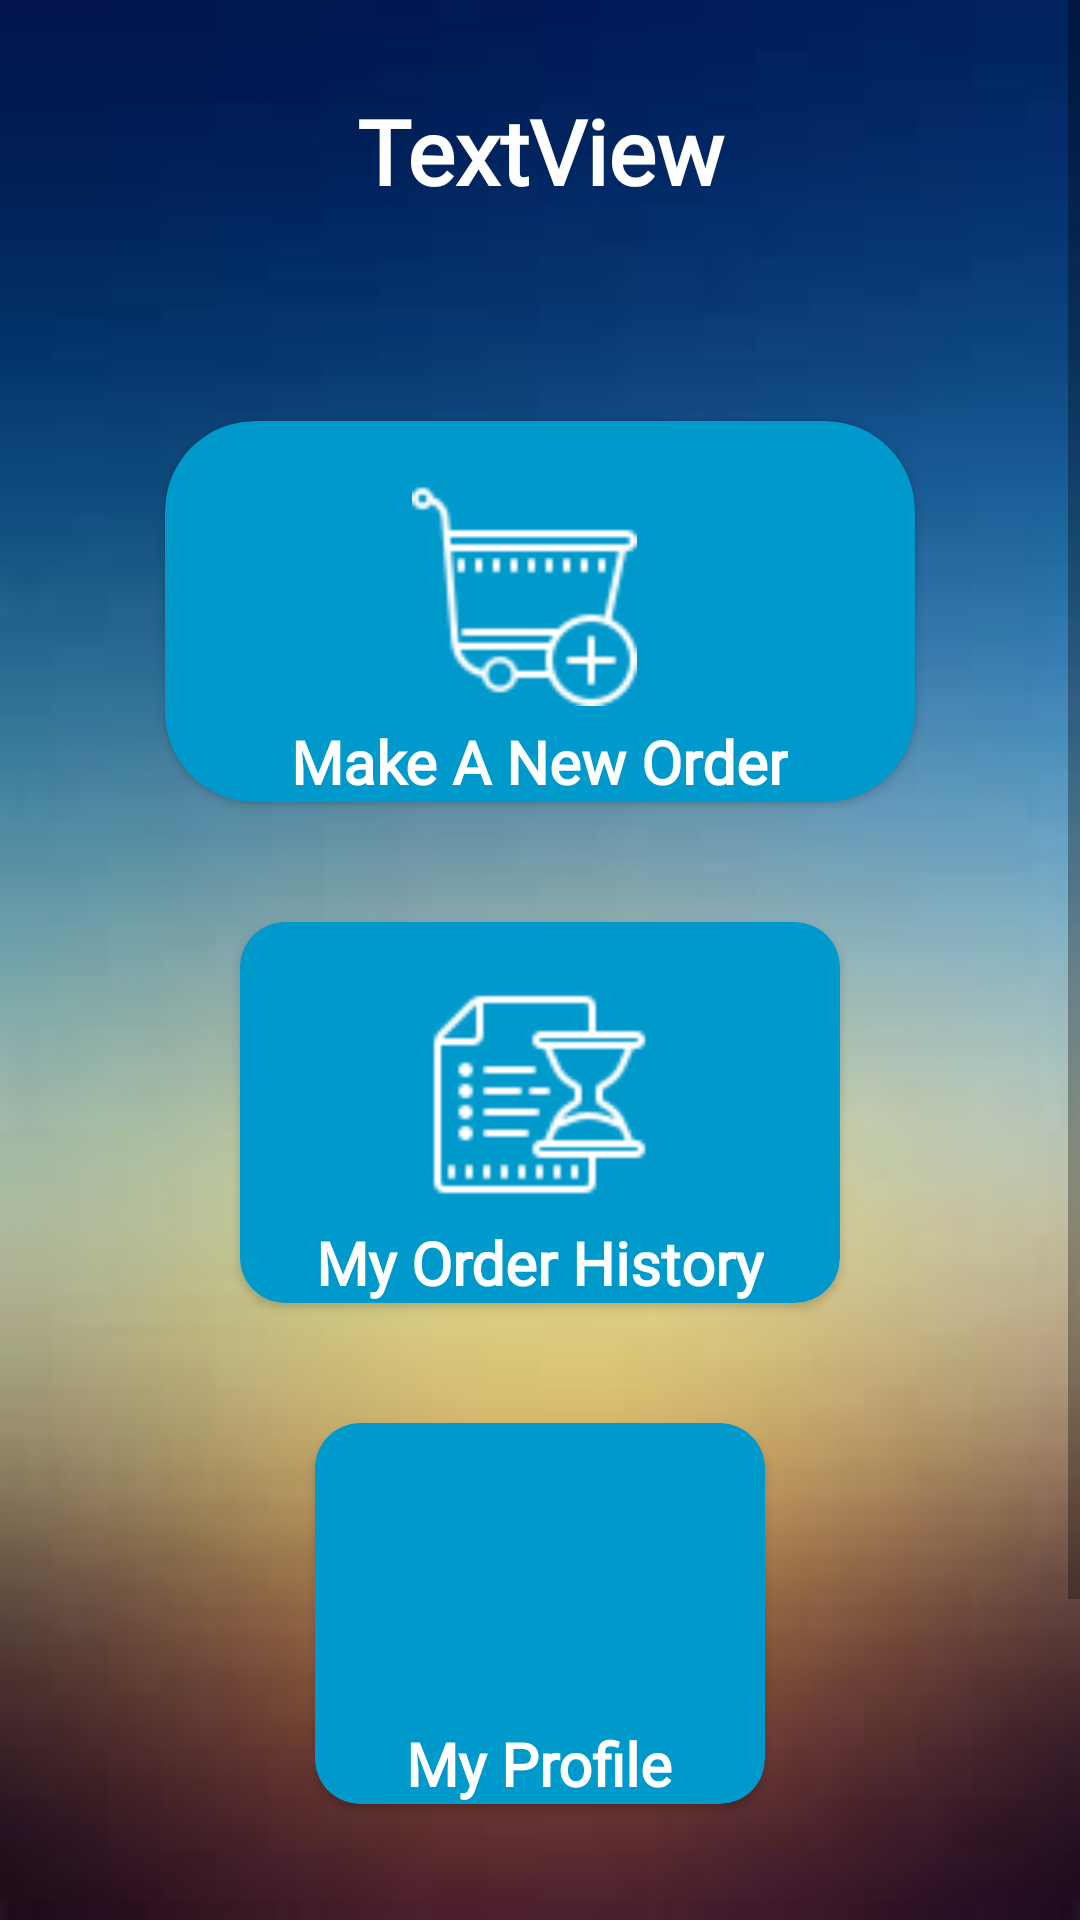

Named icons in this screenshot (1080x1920) and their bounding boxes, (x1, y1, x2, y2):
add to basket: (412, 487, 637, 706)
